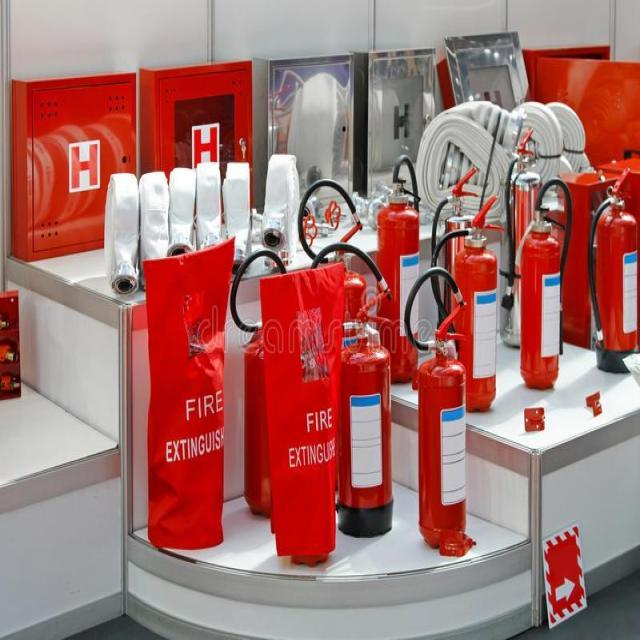fire_extinguisher: (227, 243, 306, 521), (294, 165, 364, 467), (400, 262, 469, 550), (429, 196, 508, 418), (331, 285, 395, 546), (424, 160, 486, 382), (514, 174, 574, 395), (590, 157, 640, 383), (494, 126, 544, 350), (376, 144, 422, 386)
